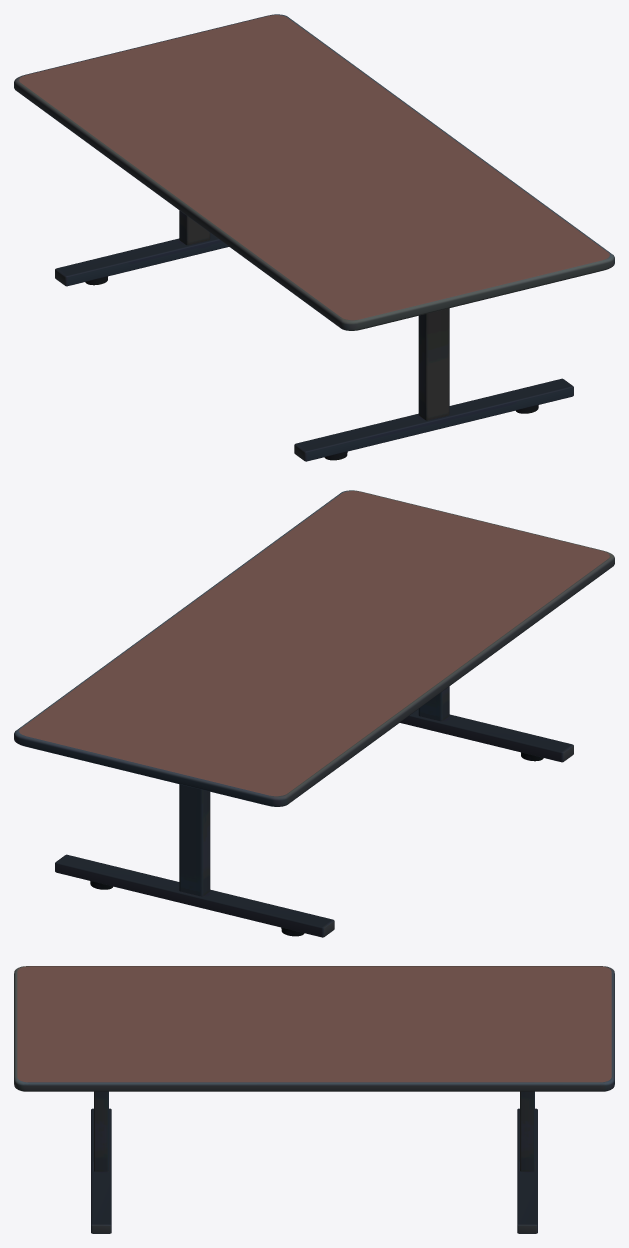
Rendered from Table.fbx.
3 renders of one model, top to bottom at view 1: azimuth 30°, elevation 25°; view 2: azimuth 150°, elevation 25°; view 3: azimuth 270°, elevation 25°, orthographic. The views are drawn at different scales.
Visible parts, largest first — view 1: node_id115; view 2: node_id115; view 3: node_id115.
Part boxes in pixels (x1,y1,x2,y2): node_id115: (14, 14, 614, 461); node_id115: (14, 490, 614, 937); node_id115: (14, 966, 614, 1233).
Bounding box in the file's own units: 321 × 199 × 688.
Materials: 1 (1 with a texture image).
